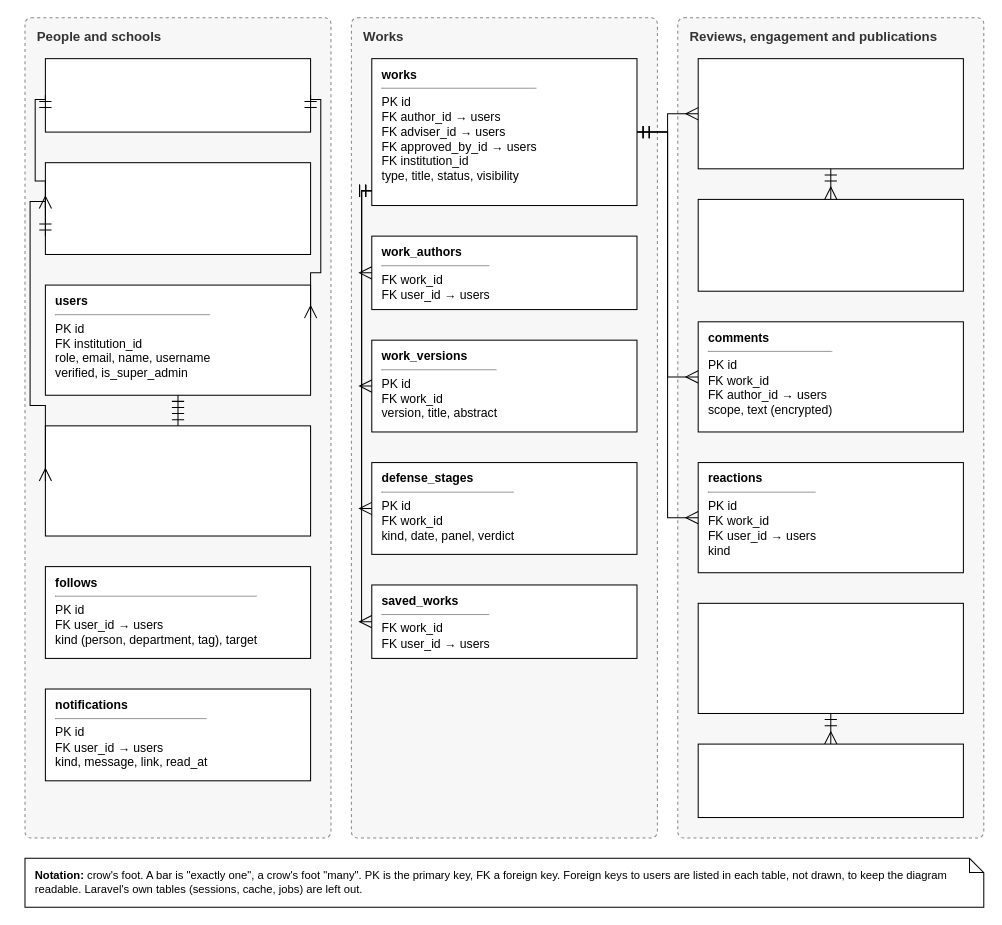
This 1002x925 diagram has some shape labels left out. The centre of each missing label's shape, as x and y in pixels:
departments PK id FK institution_id name: (177,208)
institutions PK id name, short_name, email_domains: (177,95)
profiles PK id FK user_id FK department_id titles, bio: (177,480)
publication_authors FK publication_id FK user_id → users: (830,780)
publications PK id FK author_id → users FK institution_id title, visibility: (830,657)
reviews PK id FK work_id FK reviewer_id → users decision, comment (encrypted): (830,113)
revision_items PK id FK review_id text (encrypted), done, confirmed: (830,244)
